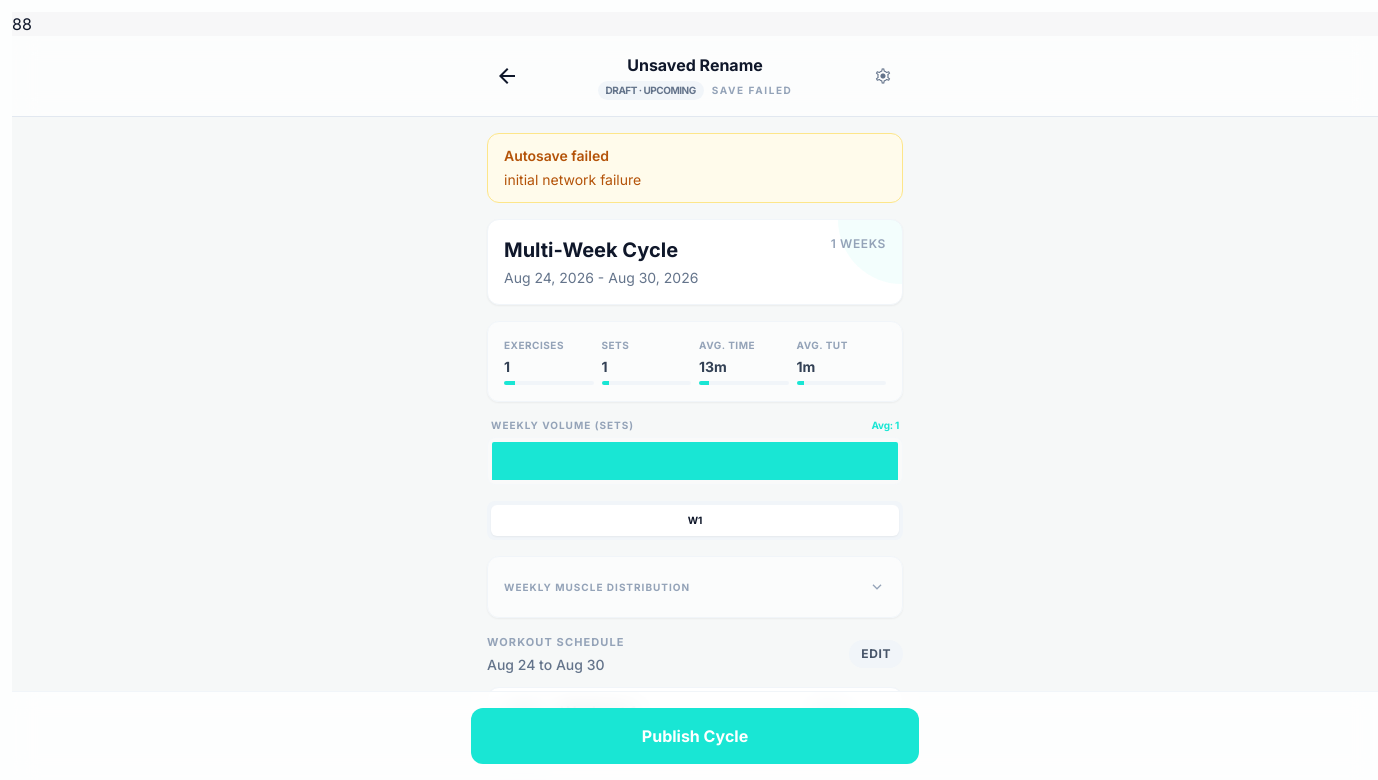
Test case: ManualBuilderMulti workout terminal-action barrier › Publish gives a generic document error one explicit retry and blocks when it fails
The image size is (1378, 780).
Click the button "Publish Cycle": click(695, 736) [471,708,919,764]
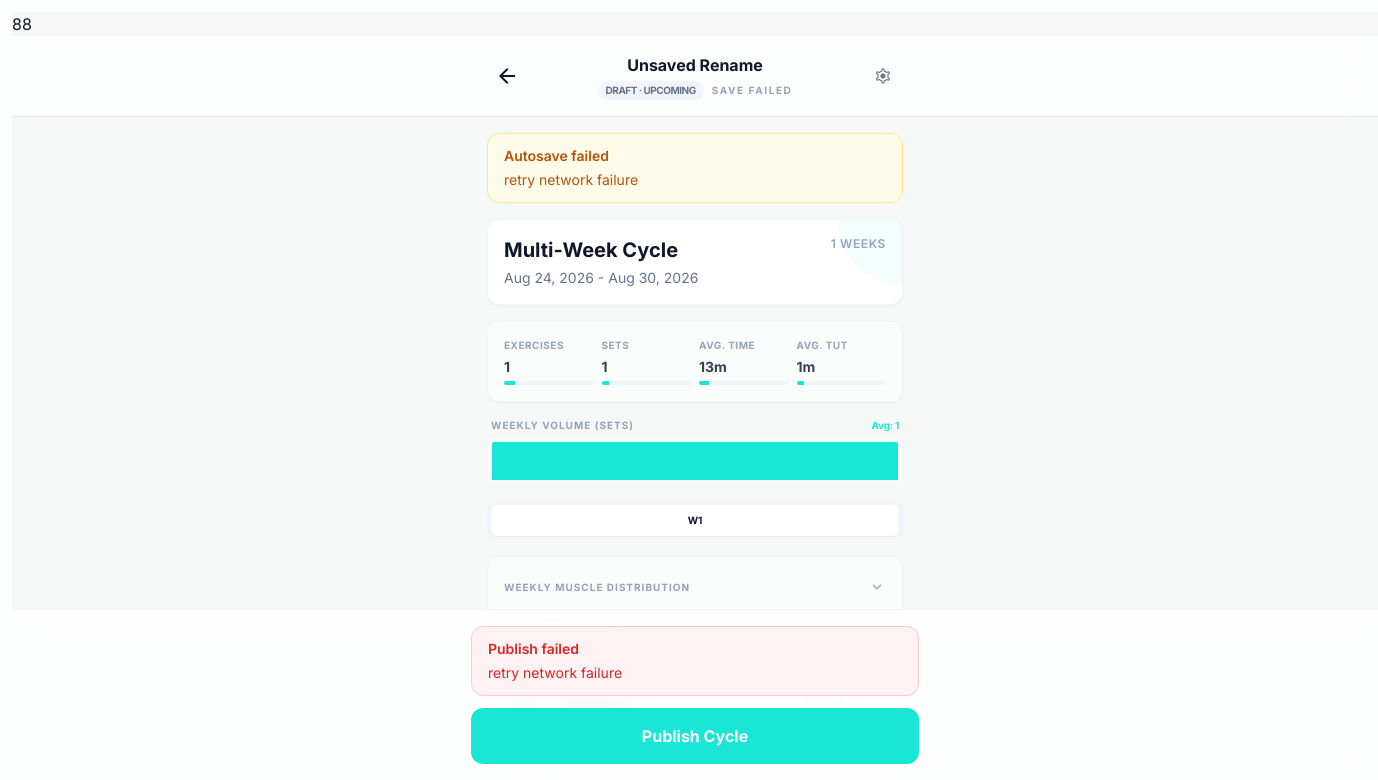
Expected: the heading "Unsaved Rename" is shown, [627,52,763,76]
Now the text "retry network failure" below "Autosave failed" is shown, box [504,171,638,188]
